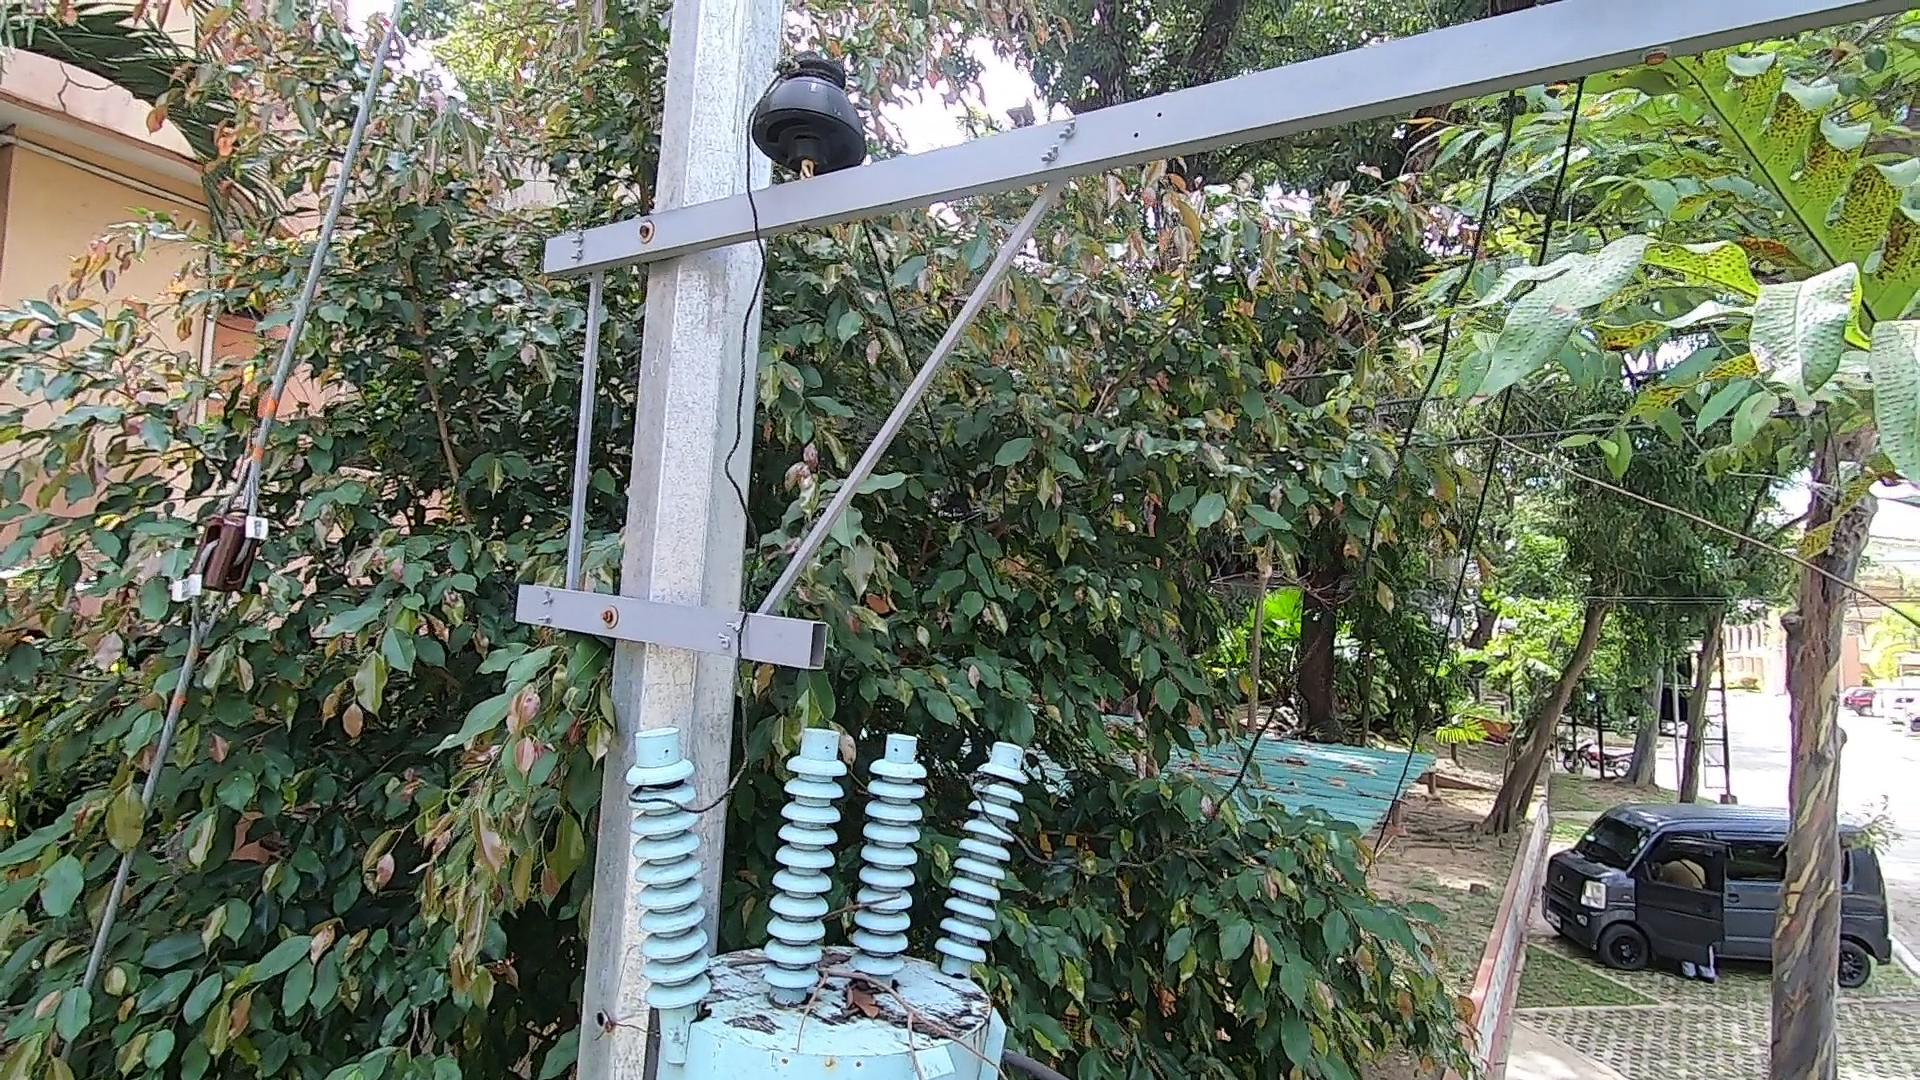leaf: (835, 969, 885, 1021), (814, 942, 856, 973)
tree branch: (786, 924, 1011, 1065)
